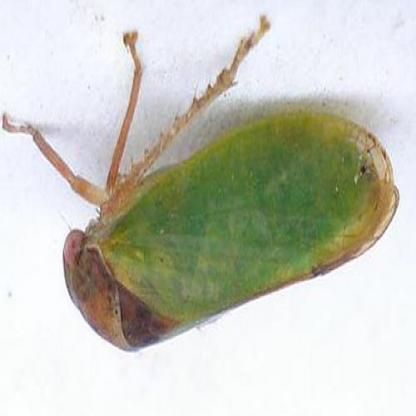green-leafhopper: (53, 112, 400, 358)
